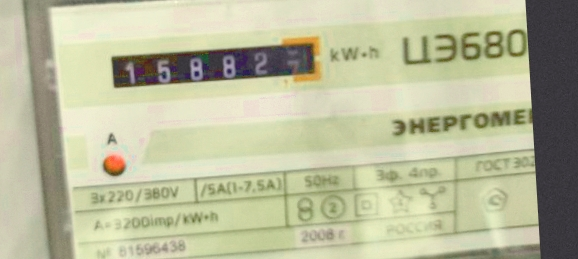1: (122, 60, 137, 85)
2: (252, 50, 268, 75)
5: (154, 56, 171, 83)
7: (285, 56, 300, 76)
8: (187, 56, 204, 82), (220, 53, 236, 78)
screen: (95, 27, 331, 104)
